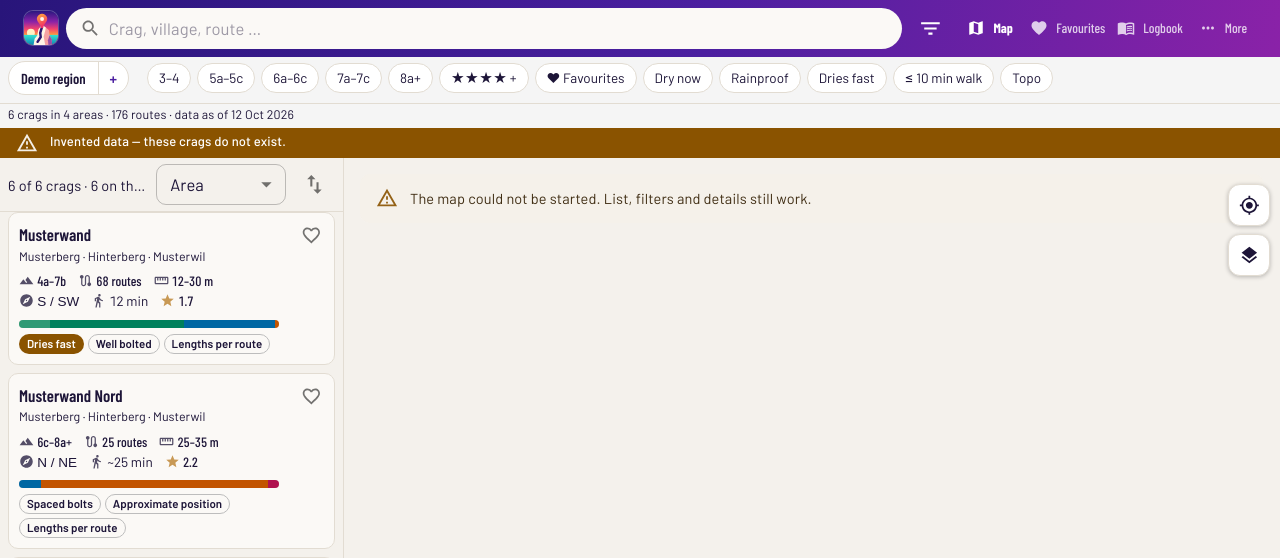
Scenario: the shell the pre-React app had › counts the filters in the badge but not the search text
Type "rocca" into the search field named "search crags" at (506, 28), box [109, 8, 902, 49]
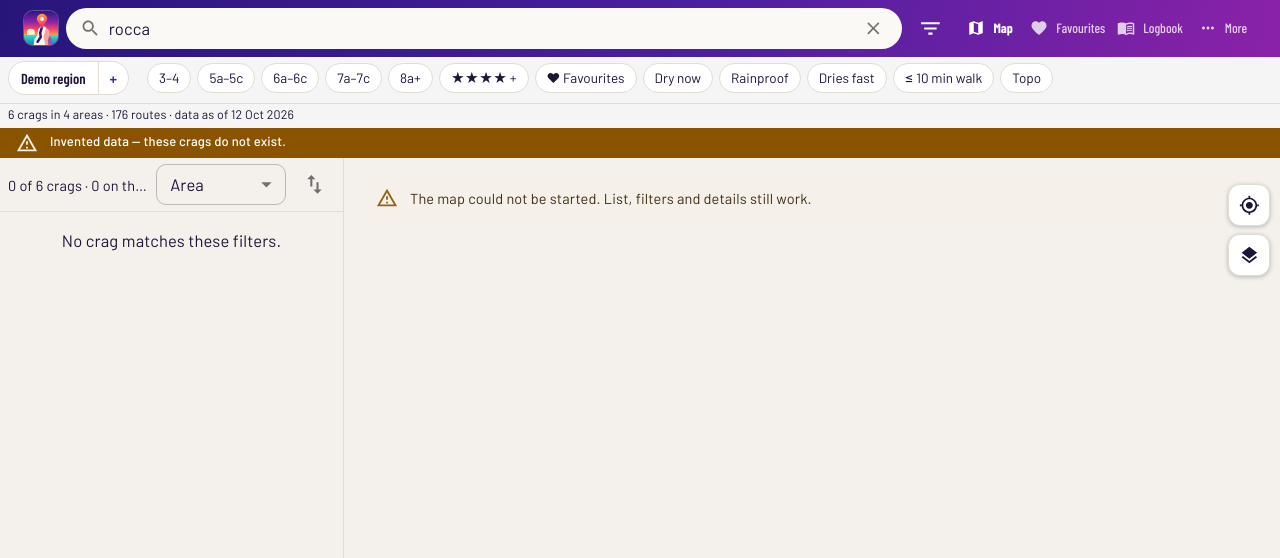
Click the button "Rainproof" at (760, 78), box [719, 63, 801, 93]
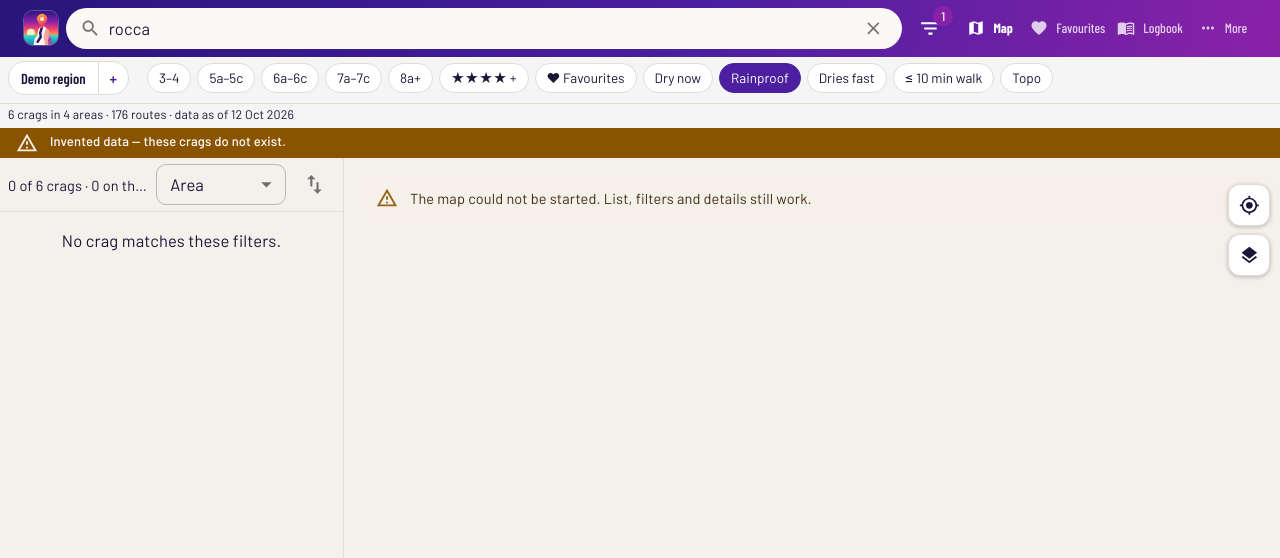
expect the button named "Filters" reads "1": met, box [910, 8, 951, 49]
